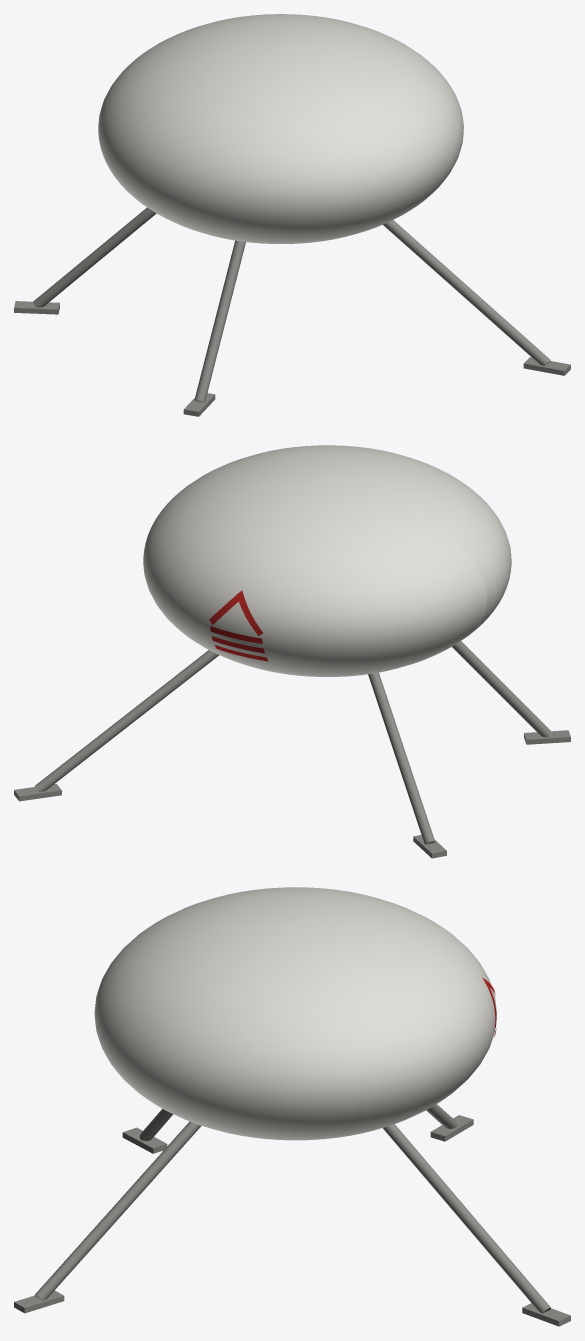
File: craft-stanford.gltf
3 views of the same model, one above another, from view 1: azimuth 30°, elevation 25°; view 2: azimuth 150°, elevation 25°; view 3: azimuth 270°, elevation 25° (orthographic). The views are drawn at different scales.
Parts seen in each view (by area): view 1: hull, leg-4, leg-1, leg-2, pad-2; view 2: hull, leg-3, leg-2, leg-1, insignia, pad-1; view 3: hull, leg-3, leg-4, pad-4, pad-3, pad-1.
Boxes of the visible parts, left/top/right/bottom form: hull: left=98, top=14, right=463, bottom=243; leg-4: left=383, top=220, right=550, bottom=365; leg-1: left=194, top=240, right=245, bottom=402; leg-2: left=33, top=207, right=156, bottom=307; pad-2: left=14, top=301, right=59, bottom=314; hull: left=143, top=445, right=511, bottom=676; leg-3: left=35, top=650, right=219, bottom=791; leg-2: left=368, top=672, right=435, bottom=844; leg-1: left=452, top=641, right=551, bottom=737; insignia: left=209, top=590, right=268, bottom=661; pad-1: left=524, top=730, right=570, bottom=744; hull: left=94, top=887, right=496, bottom=1140; leg-3: left=383, top=1124, right=550, bottom=1313; leg-4: left=34, top=1121, right=201, bottom=1300; pad-4: left=14, top=1290, right=64, bottom=1313; pad-3: left=522, top=1303, right=570, bottom=1326; pad-1: left=122, top=1127, right=167, bottom=1153.
Bounding box in the file's own units: 4.07 × 2.8 × 4.65.
